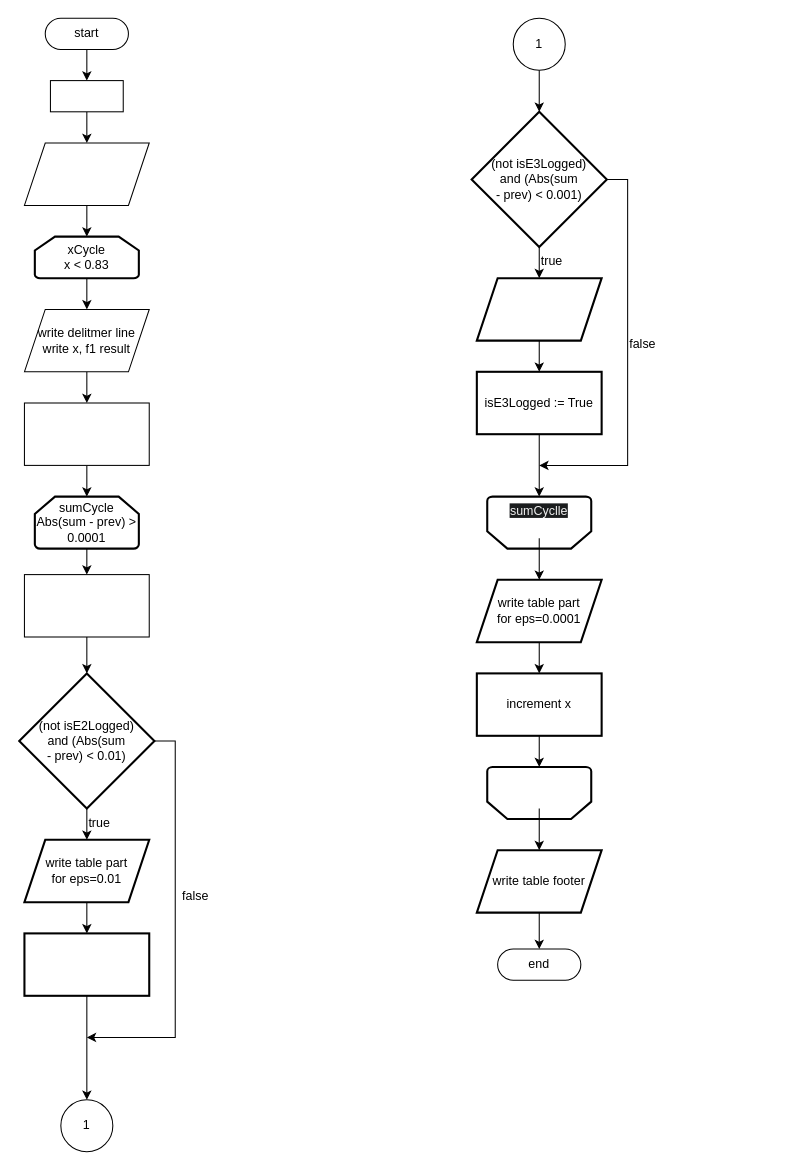
Image size: 790x1170. Some labels were removed from this diagram. The box of each missing label's shape, as (x1, y1, x2, y2) in pixels:
isE2Logged := True: (23, 932, 150, 996)
reset some values: (23, 402, 149, 465)
save previous sum get new sum values get new sum: (23, 574, 149, 637)
write heading of table: (23, 142, 149, 205)
write table part for eps=0.001: (475, 277, 602, 341)
x := 0;: (49, 80, 123, 112)
xCycle: (486, 765, 592, 820)
